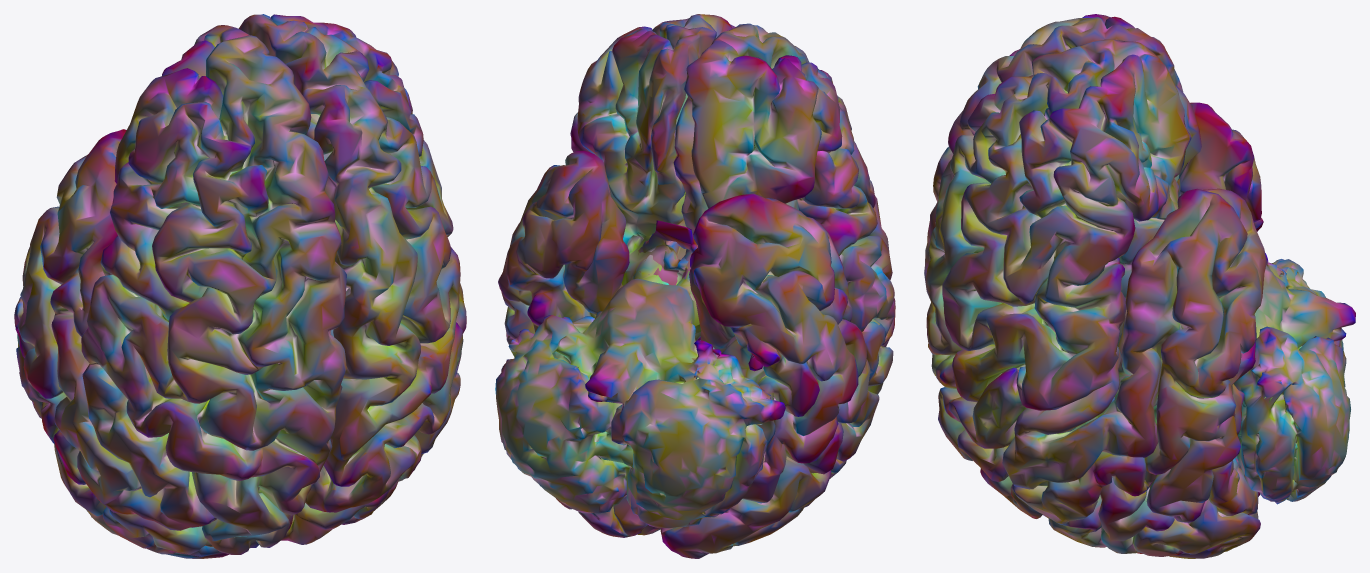
The picture shows the model from 3 angles, left to right: view 1: azimuth 30°, elevation 25°; view 2: azimuth 150°, elevation 25°; view 3: azimuth 270°, elevation 25°; orthographic projection. The views are drawn at different scales.
Parts seen in each view (by area): view 1: brain; view 2: brain; view 3: brain.
Boxes of the visible parts, box(x1,y1,x2,y2) form: brain: box(14, 14, 466, 558); brain: box(495, 14, 895, 558); brain: box(924, 14, 1355, 558).
Size of the model in its own units: 1.47 by 2 by 1.56.
